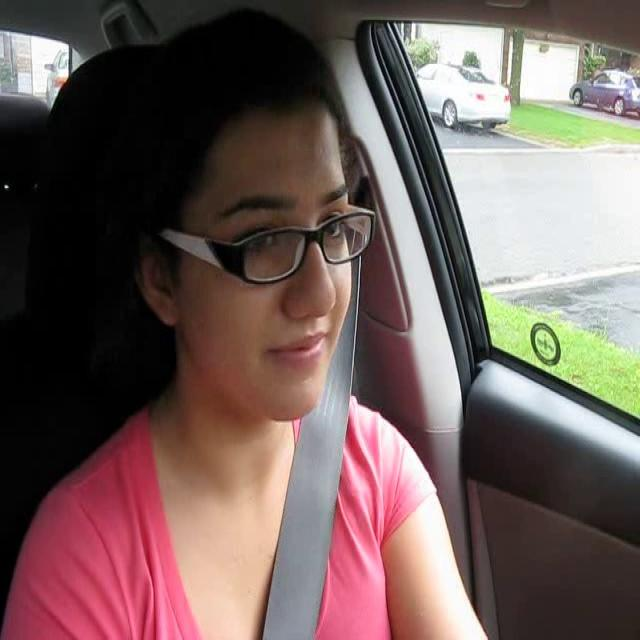close: (266, 328, 333, 368)
